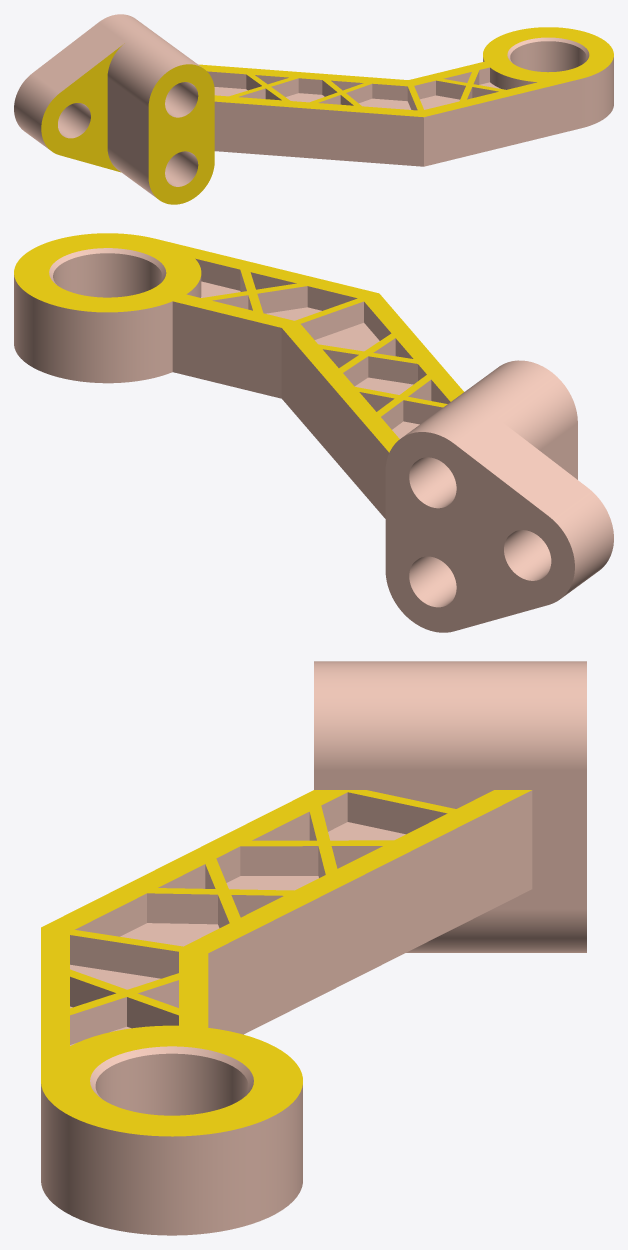
Rendered from Braço de Fixação Angular.glb.
3 renders of one model, top to bottom at view 1: azimuth 30°, elevation 25°; view 2: azimuth 150°, elevation 25°; view 3: azimuth 270°, elevation 25°, orthographic. The views are drawn at different scales.
Parts seen in each view (by area): view 1: Part 1; view 2: Part 1; view 3: Part 1.
Boxes of the visible parts, box(x1,y1,x2,y2) form: Part 1: box(14, 14, 613, 204); Part 1: box(14, 233, 613, 632); Part 1: box(41, 661, 586, 1235).
Bounding box in the file's own units: 1.03 × 0.2798 × 0.4998.
